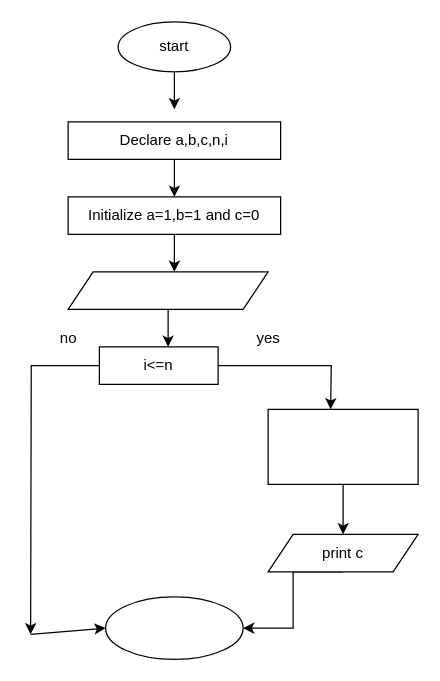
The diagram is 440 pixels wide and 681 high, and some of its shapes have lost their labels. Here are the shapes that lost their labels. From the top down, the centre of each, then its label:
the point at 167,290: input n
the point at 342,446: c=a+b a=b b=c
the point at 173,627: end
